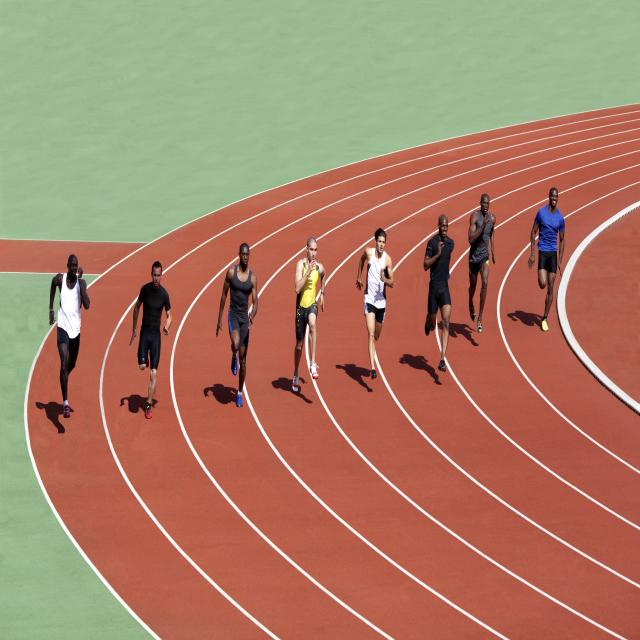Person: (129, 261, 172, 419), (216, 242, 257, 406), (50, 256, 90, 417), (358, 228, 395, 380), (292, 237, 326, 390), (530, 189, 564, 331), (424, 213, 454, 372), (469, 195, 496, 332)
